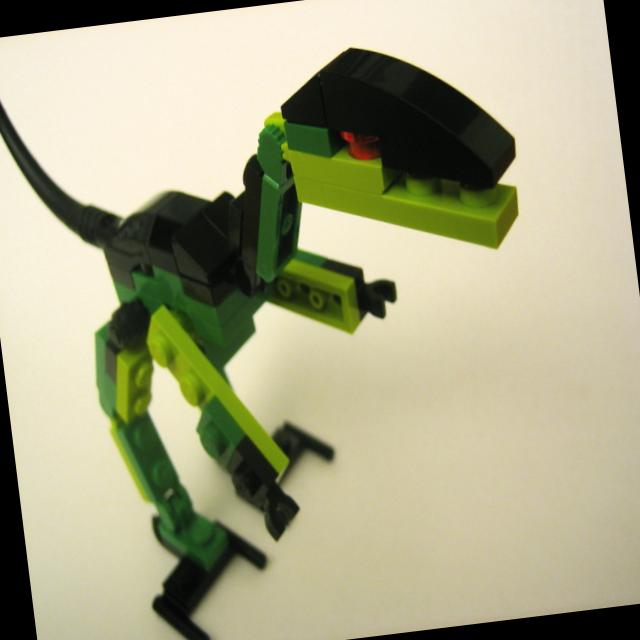Toy: (0, 7, 572, 640)
